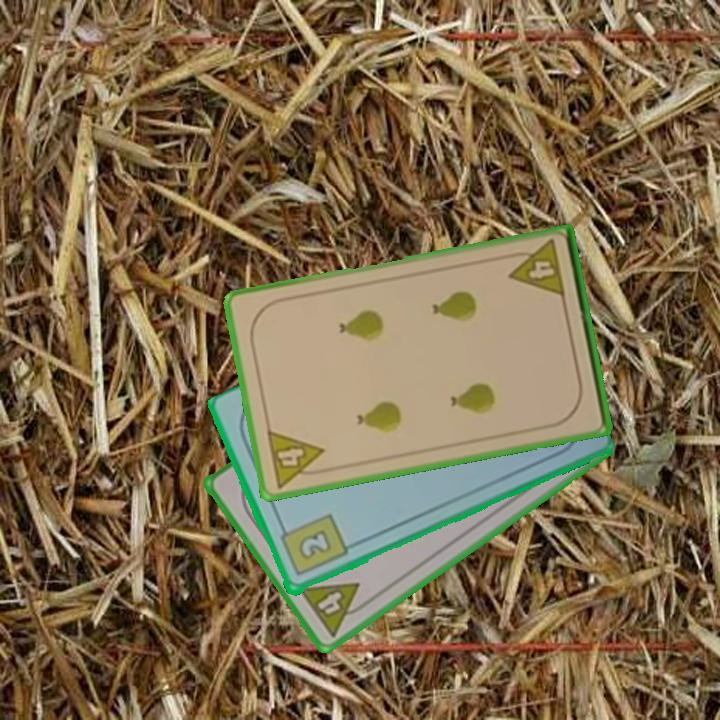2b: (276, 511, 350, 580)
4p: (295, 579, 374, 640), (263, 426, 330, 491), (503, 236, 568, 301)
